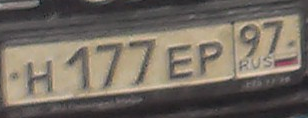character: (93, 41, 126, 90), (127, 36, 158, 86), (63, 43, 93, 94), (196, 36, 226, 80), (165, 41, 195, 82), (25, 58, 56, 97), (238, 22, 262, 58), (262, 18, 286, 54)
